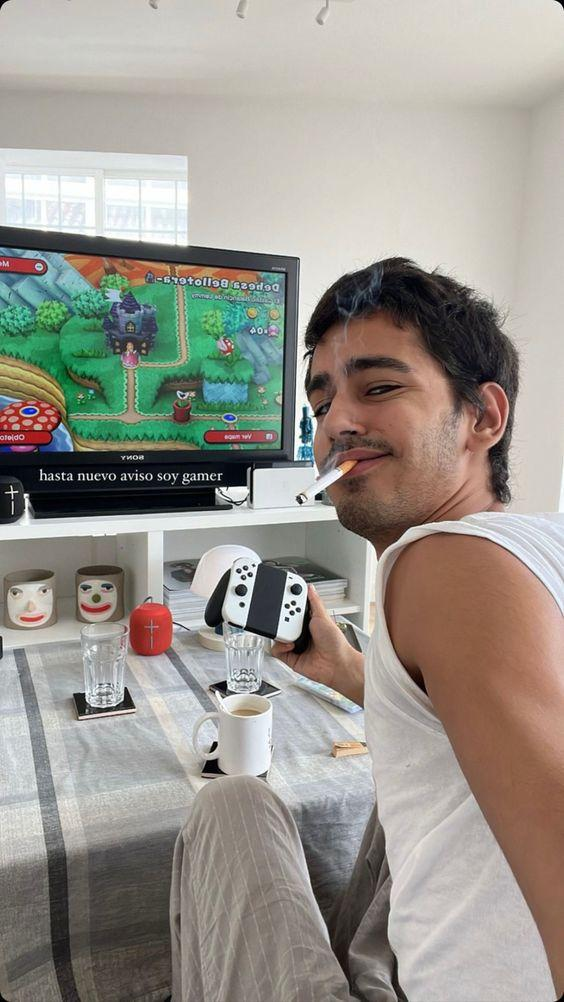cigarette: (296, 459, 360, 504)
